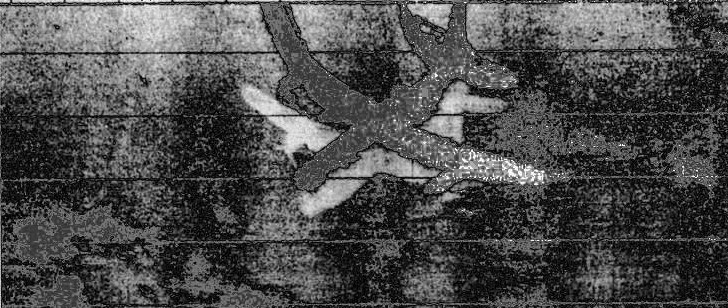plane: (267, 24, 534, 213)
